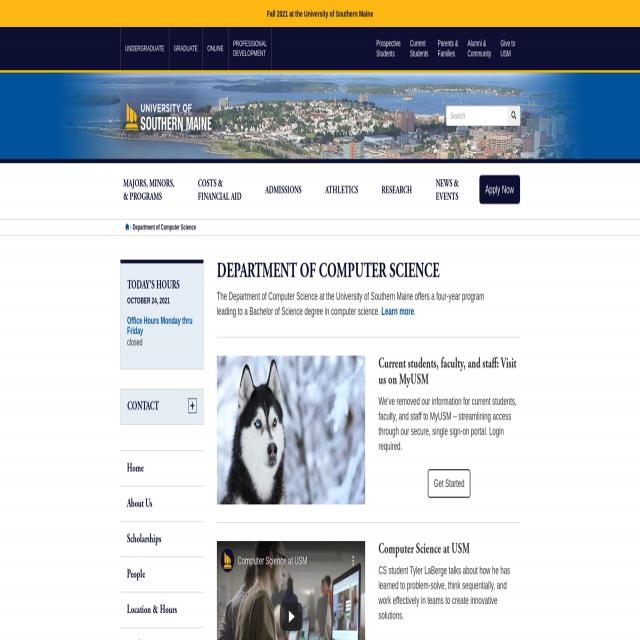button: (217, 356, 365, 504), (217, 539, 365, 640), (112, 76, 224, 155), (120, 163, 178, 217), (120, 486, 204, 522), (120, 451, 204, 486), (120, 557, 204, 592), (120, 522, 204, 556), (121, 390, 203, 424), (195, 163, 245, 217), (120, 595, 204, 625), (262, 163, 304, 217), (120, 27, 170, 70), (322, 163, 361, 217), (379, 163, 415, 217), (228, 27, 272, 70), (432, 164, 462, 218), (169, 26, 203, 70), (462, 27, 496, 70), (372, 27, 405, 70), (433, 27, 463, 70), (428, 469, 470, 498), (405, 27, 433, 70), (479, 175, 520, 204), (203, 27, 228, 70), (496, 27, 520, 70), (280, 602, 302, 630), (222, 547, 234, 572), (507, 106, 520, 125), (348, 549, 357, 570)
field: (446, 105, 520, 126)
